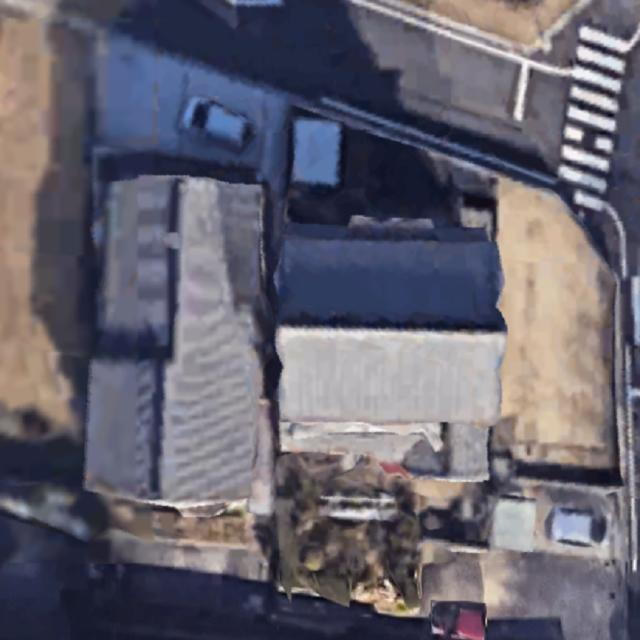Batiment: (85, 175, 265, 512), (276, 232, 506, 429)
